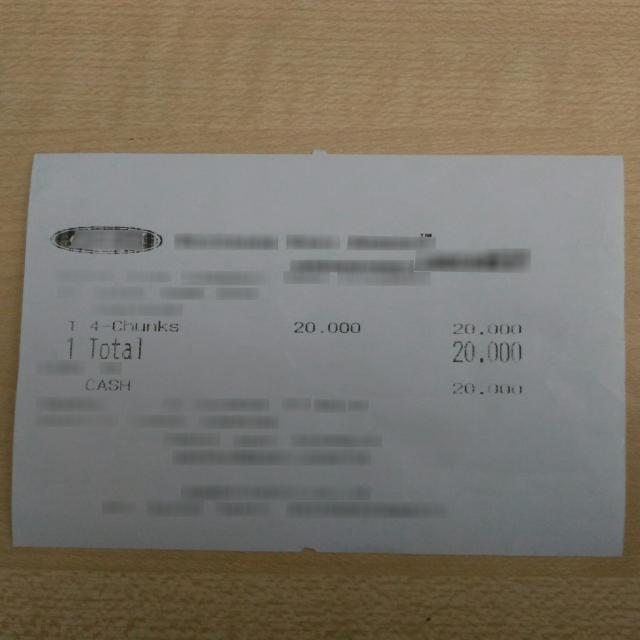kertas: (12, 151, 627, 557)
